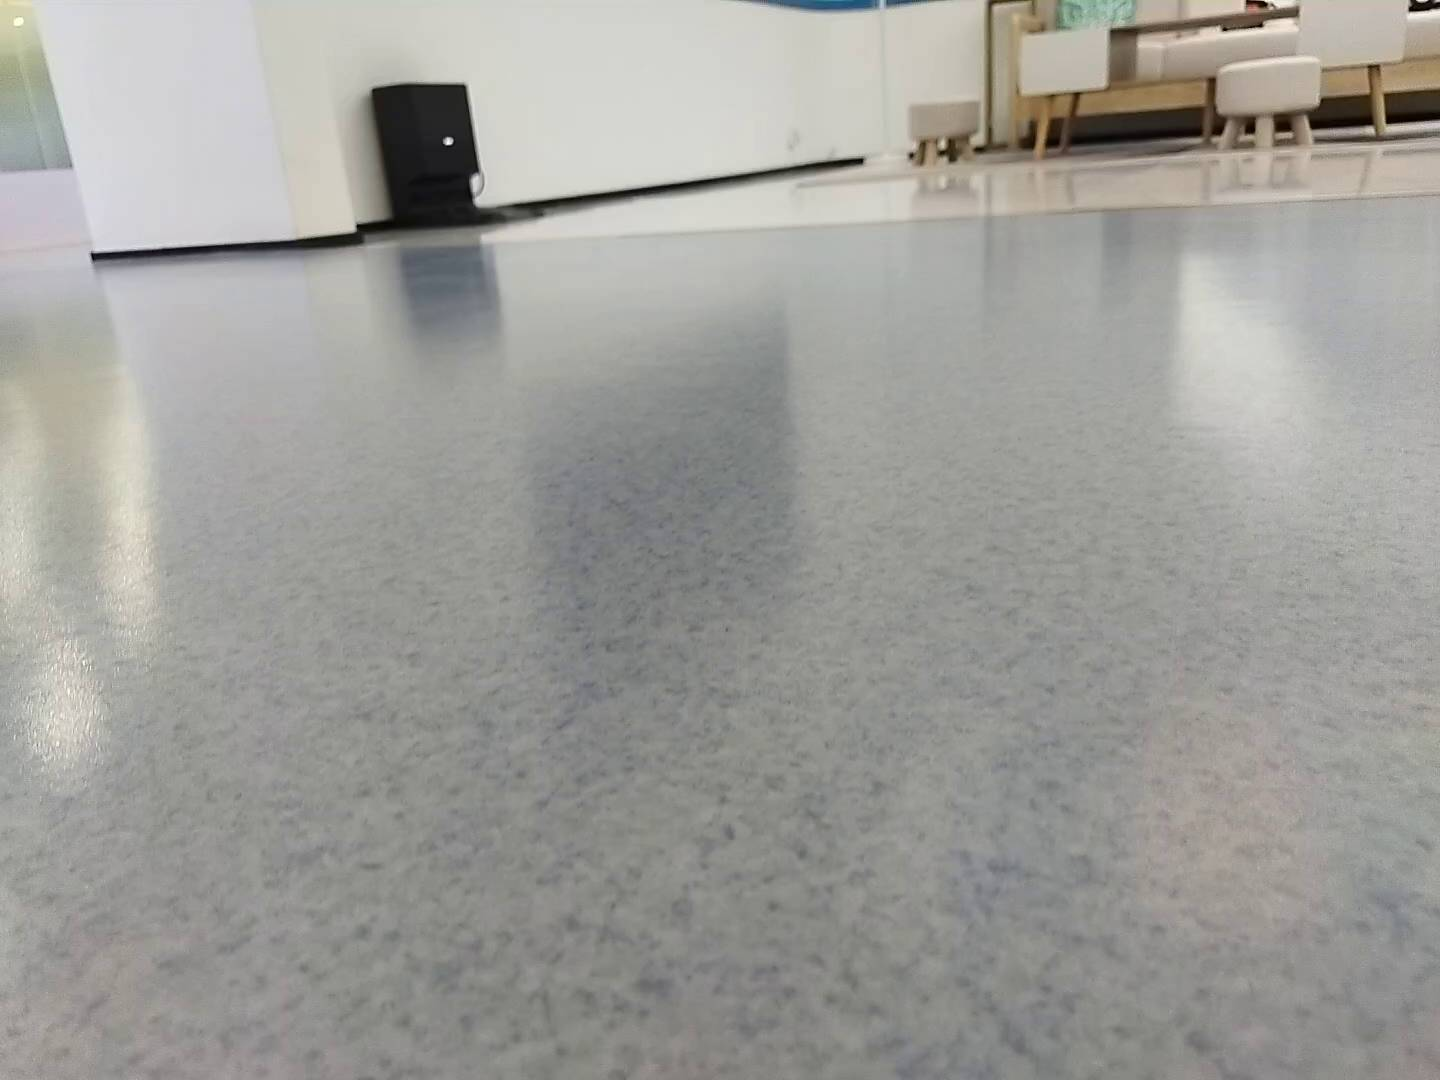dust collecting barrel: (369, 81, 530, 228)
